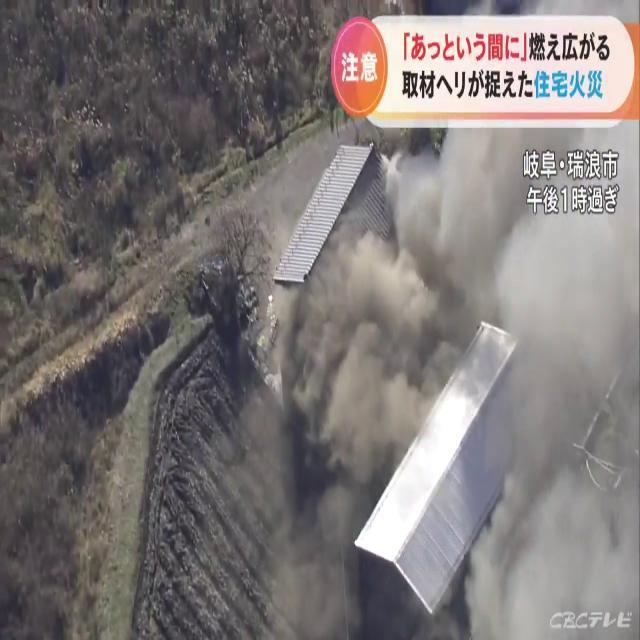Smoke: (256, 121, 638, 628)
